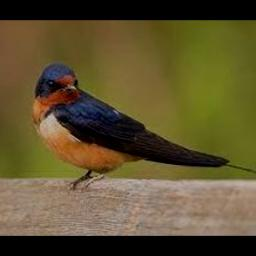Swallow: (31, 64, 256, 191)
